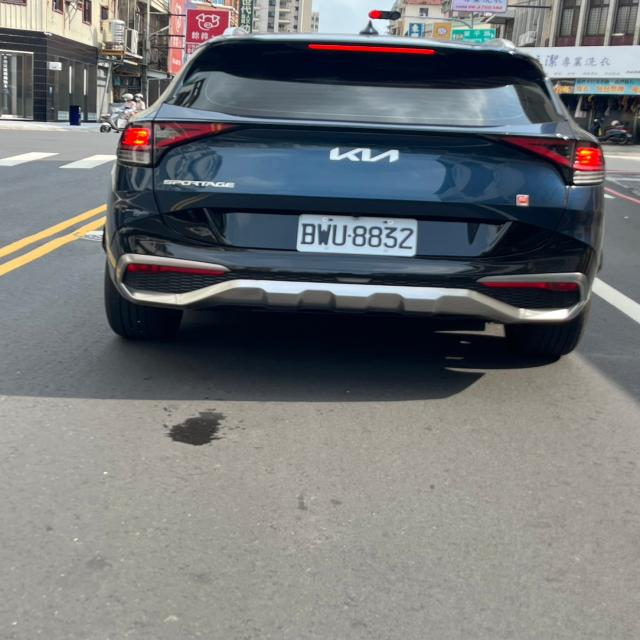license-plate: (292, 211, 429, 259)
